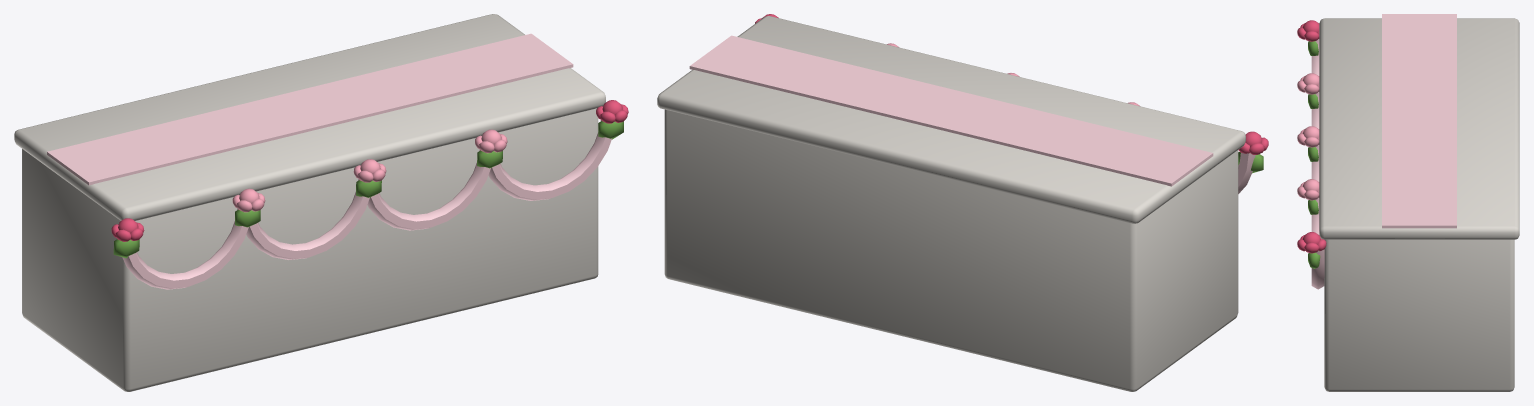
File: mesa_retangular.glb
The picture shows the model from 3 angles, left to right: view 1: azimuth 30°, elevation 25°; view 2: azimuth 150°, elevation 25°; view 3: azimuth 270°, elevation 25°; orthographic projection. The views are drawn at different scales.
Parts seen in each view (by area): view 1: Mesa_Retangular; view 2: Mesa_Retangular; view 3: Mesa_Retangular.
Boxes of the visible parts, x1,y1,x2,y2 form: Mesa_Retangular: (14, 14, 628, 391); Mesa_Retangular: (657, 14, 1268, 391); Mesa_Retangular: (1297, 14, 1519, 391).
Size of the model in its own units: 2.12 by 0.751 by 0.8884.
